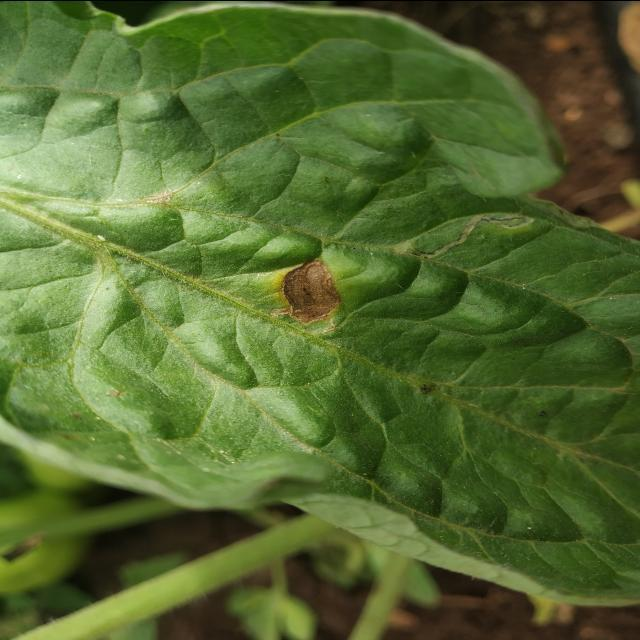Tomato mosaic virus leaf: (201, 165, 417, 401)
